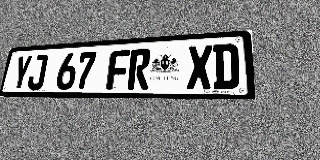6: (55, 52, 79, 90)
7: (74, 51, 97, 90)
D: (213, 43, 240, 89)
F: (106, 49, 130, 90)
J: (26, 54, 49, 90)
R: (127, 48, 151, 90)
X: (187, 45, 212, 89)
Y: (10, 55, 33, 90)
